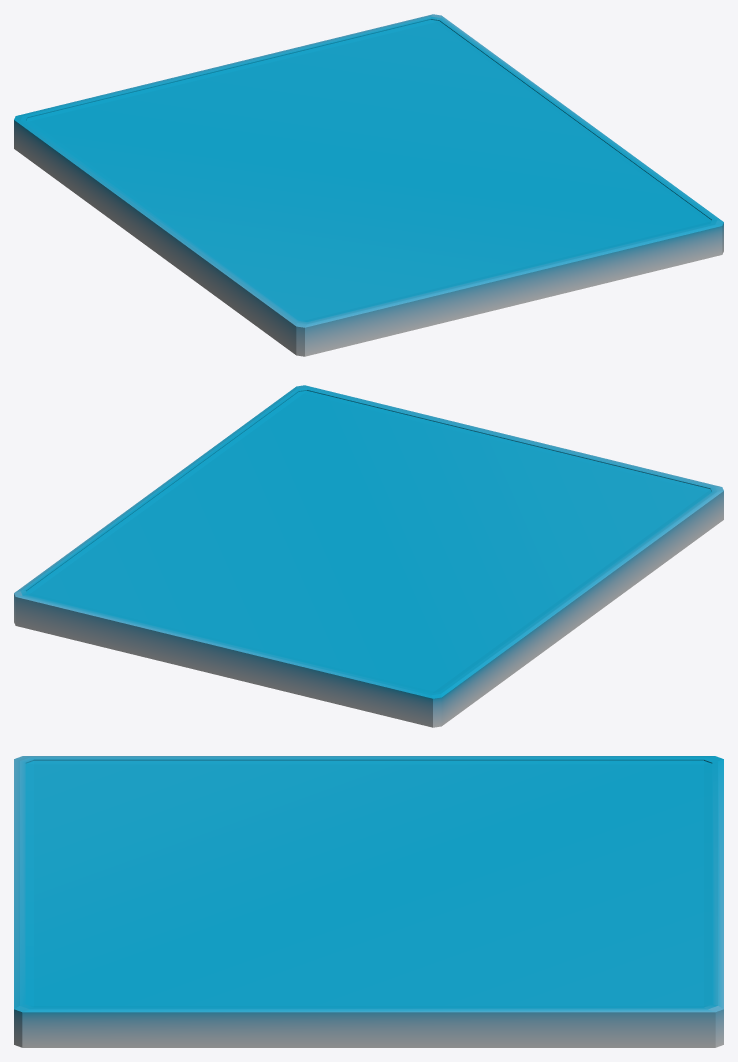
The model's file is EngineerRoom_DataPad.fbx.
The picture shows the model from 3 angles, top to bottom: view 1: azimuth 30°, elevation 25°; view 2: azimuth 150°, elevation 25°; view 3: azimuth 270°, elevation 25°; orthographic projection. The views are drawn at different scales.
Parts seen in each view (by area): view 1: Cube.039; view 2: Cube.039; view 3: Cube.039.
Boxes of the visible parts, box(x1,y1,x2,y2) form: Cube.039: box(14, 14, 723, 356); Cube.039: box(14, 385, 723, 727); Cube.039: box(14, 756, 723, 1047).
Bounding box in the file's own units: 28.84 × 1.93 × 33.78.
